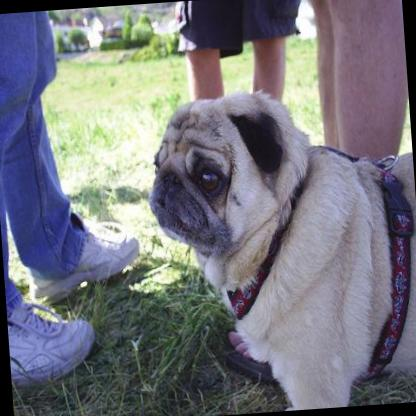pug: (136, 76, 416, 416)
